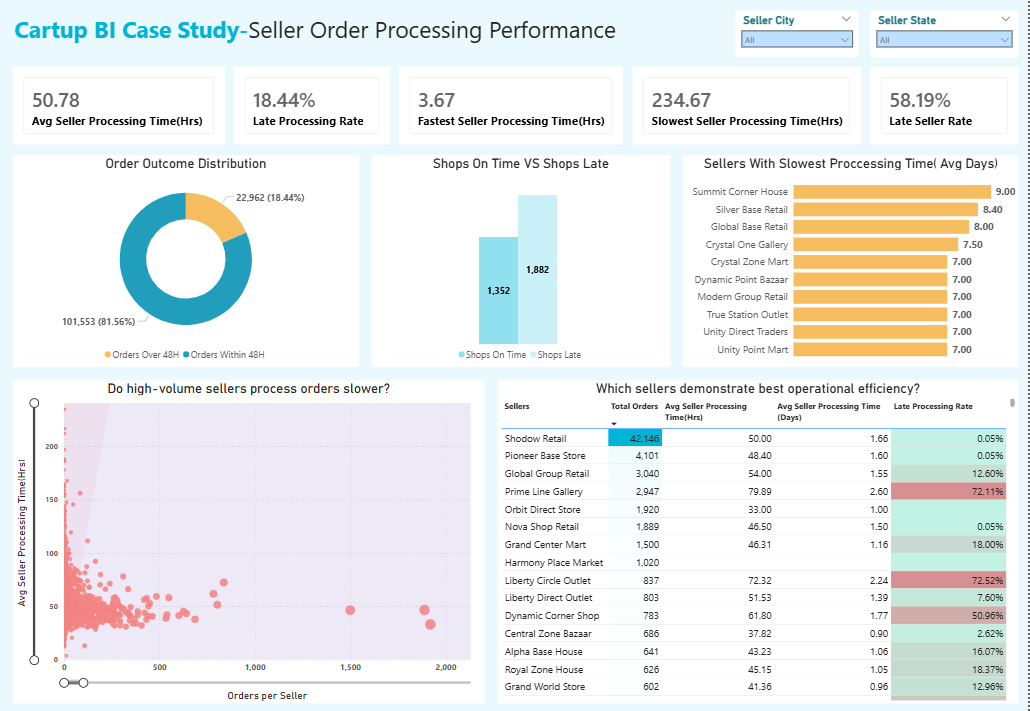

This screenshot's page, from the dashboard's own definition file:
{"tool":"powerbi","page":{"name":"Question 1","canvas":[1680,1180],"ordinal":1},"visuals":[{"type":"textbox","box":[21.4,21.4,1180.4,75],"z":0},{"type":"cardVisual","fields":{"Data":["_MeasuresQ1.Avg Seller Processing Time"]},"box":[21.7,111.6,346.4,127.5],"z":1000},{"type":"cardVisual","fields":{"Data":["_MeasuresQ1.Slowest Seller Processing Time"]},"box":[1034.1,111.6,372.5,127.5],"z":2000},{"type":"cardVisual","fields":{"Data":["_MeasuresQ1.Late Processing Rate"]},"box":[383.3,111.6,255.1,127.5],"z":3000},{"type":"donutChart","title":"Order Outcome Distribution","fields":{"Y":["_MeasuresQ1.Orders Over 48H","_MeasuresQ1.Orders Within 48H"]},"box":[21.7,257.7,565.5,344.8],"z":4000},{"type":"cardVisual","fields":{"Data":["_MeasuresQ1.Fastest Seller Processing Time"]},"box":[653.6,111.6,365.2,127.5],"z":5000},{"type":"cardVisual","fields":{"Data":["_MeasuresQ1.Late Seller Rate"]},"box":[1421.7,111.6,242,127.5],"z":6000},{"type":"clusteredColumnChart","title":"Shops On Time VS Shops Late","fields":{"Y":["_MeasuresQ1.Shops On Time","_MeasuresQ1.Shops Late"]},"box":[607.4,257.7,487.9,344.8],"z":7000},{"type":"clusteredBarChart","title":"Sellers With Slowest Proccessing Time( Avg Days)","fields":{"Category":["DimShops.shopname"],"Y":["_MeasuresQ1.Seller Processing Time (Days)"]},"box":[1115.5,257.7,548.3,344.8],"z":8000},{"type":"scatterChart","title":"Do high-volume sellers process orders slower?","fields":{"X":["_MeasuresQ1.Orders per Seller"],"Size":["_MeasuresQ1.Orders per Seller"],"Y":["_MeasuresQ1.Avg Seller Processing Time"],"Category":["DimShops.shopname"]},"box":[21.7,624.1,770.7,527.6],"z":9000},{"type":"tableEx","title":"Which sellers demonstrate best operational efficiency?","fields":{"Values":["DimShops.shopname","_M5.Total Orders","_MeasuresQ1.Avg Seller Processing Time(Hrs)","_MeasuresQ1.Seller Processing Time (Days)","_MeasuresQ1.Late Processing Rate"]},"box":[813.8,624.1,850,527.6],"z":10000},{"type":"slicer","fields":{"Values":["DimShops.sellercity"]},"box":[1201.7,20.7,201.7,75.9],"z":11000},{"type":"slicer","fields":{"Values":["OrderJourneyData.sellerstate"]},"box":[1421.7,20.3,242,76.8],"z":12000}]}

Visuals, with their boxes in screenshot pixels (x1, y1, x2, y2), scaled from the page's 1680x1180 canvas onto the 1030x711 screenshot:
textbox: pyautogui.locateOnScreen(13, 13, 737, 58)
cardVisual - _MeasuresQ1.Avg Seller Processing Time: pyautogui.locateOnScreen(13, 67, 226, 144)
cardVisual - _MeasuresQ1.Slowest Seller Processing Time: pyautogui.locateOnScreen(634, 67, 862, 144)
cardVisual - _MeasuresQ1.Late Processing Rate: pyautogui.locateOnScreen(235, 67, 391, 144)
"Order Outcome Distribution" donutChart: pyautogui.locateOnScreen(13, 155, 360, 363)
cardVisual - _MeasuresQ1.Fastest Seller Processing Time: pyautogui.locateOnScreen(401, 67, 625, 144)
cardVisual - _MeasuresQ1.Late Seller Rate: pyautogui.locateOnScreen(872, 67, 1020, 144)
"Shops On Time VS Shops Late" clusteredColumnChart: pyautogui.locateOnScreen(372, 155, 672, 363)
"Sellers With Slowest Proccessing Time( Avg Days)" clusteredBarChart: pyautogui.locateOnScreen(684, 155, 1020, 363)
"Do high-volume sellers process orders slower?" scatterChart: pyautogui.locateOnScreen(13, 376, 486, 694)
"Which sellers demonstrate best operational efficiency?" tableEx: pyautogui.locateOnScreen(499, 376, 1020, 694)
slicer - DimShops.sellercity: pyautogui.locateOnScreen(737, 12, 860, 58)
slicer - OrderJourneyData.sellerstate: pyautogui.locateOnScreen(872, 12, 1020, 59)
